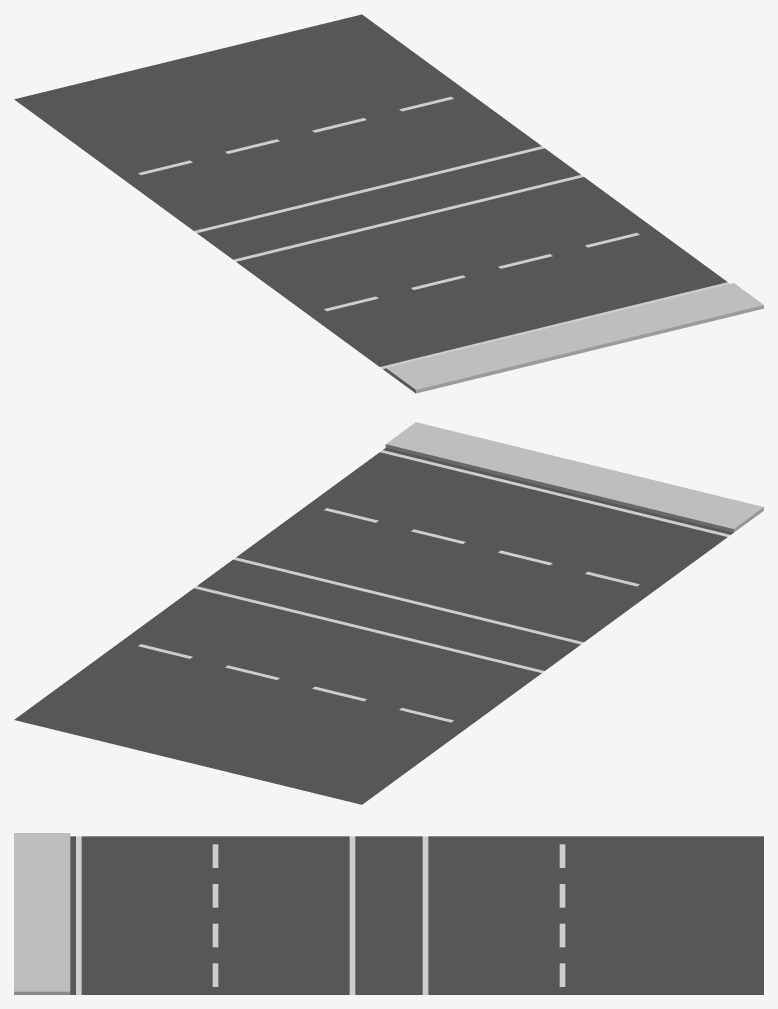
Rendered from SPW_Urban_Road 4way_07.gltf.
3 renders of one model, top to bottom at view 1: azimuth 30°, elevation 25°; view 2: azimuth 150°, elevation 25°; view 3: azimuth 270°, elevation 25°, orthographic. The views are drawn at different scales.
Visible parts, largest first — view 1: SPW_Urban_Road_4way_07; view 2: SPW_Urban_Road_4way_07; view 3: SPW_Urban_Road_4way_07.
Boxes of the visible parts, x1,y1,x2,y2 form: SPW_Urban_Road_4way_07: (14, 14, 763, 393); SPW_Urban_Road_4way_07: (14, 422, 763, 804); SPW_Urban_Road_4way_07: (14, 833, 763, 994).
Bounding box in the file's own units: 787 × 7.87 × 1575.
Materials: 1 (1 with a texture image).
